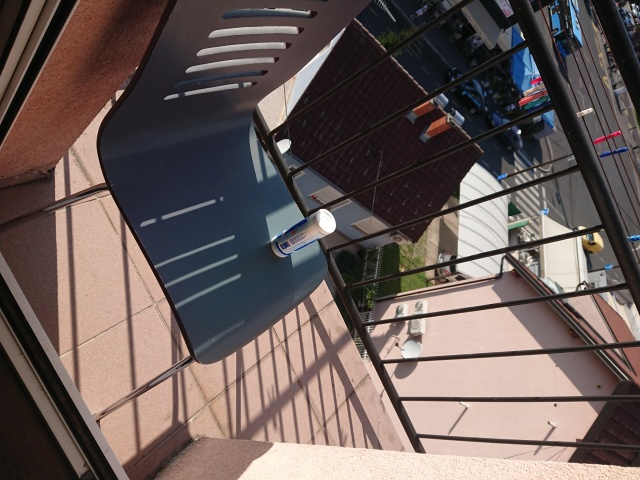Solana Pag Fine Sea Salt 250g: (268, 206, 338, 260)
